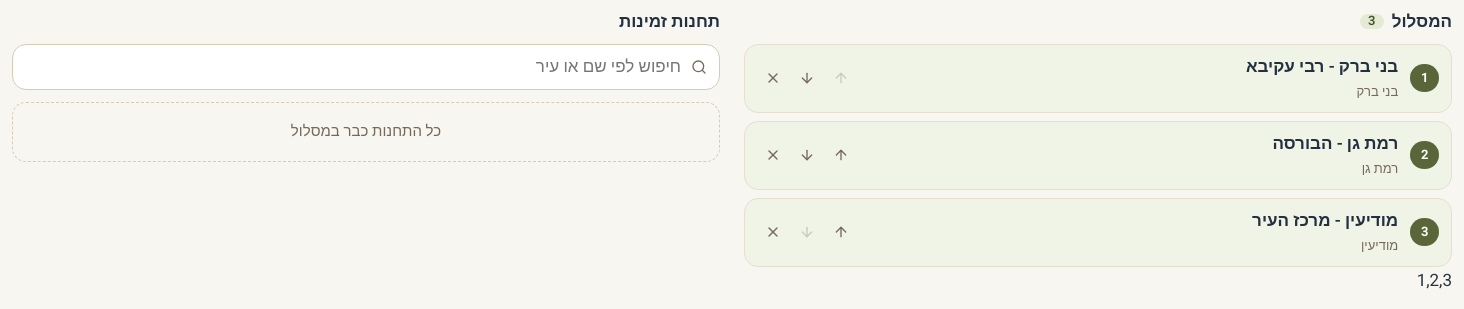
RouteBuilder › moves a stop earlier and removes one
Click the button named "הקדמת מודיעין - מרכז העיר" at (841, 232), box [825,216,857,248]
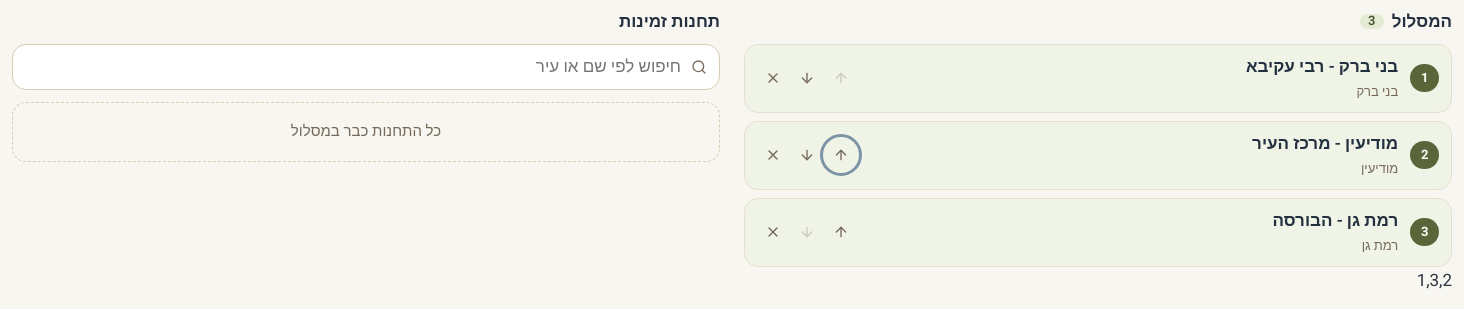
expect the text with test id "route" reads "1,3,2": met, box [1417,268,1452,292]
Click the button named "הסרת בני ברק - רבי עקיבא מהמסלול" at (773, 78), box [757,62,789,94]
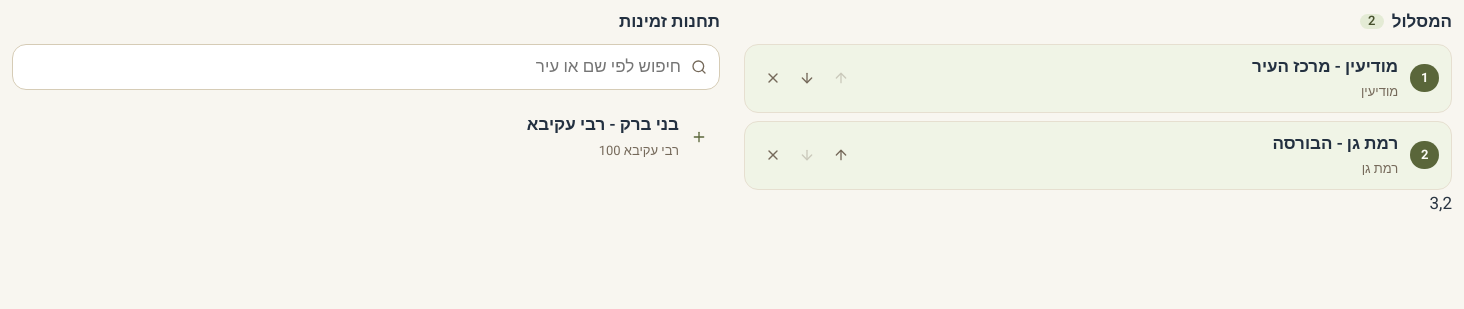
expect the text with test id "route" reads "3,2": met, box [1430,190,1452,216]
